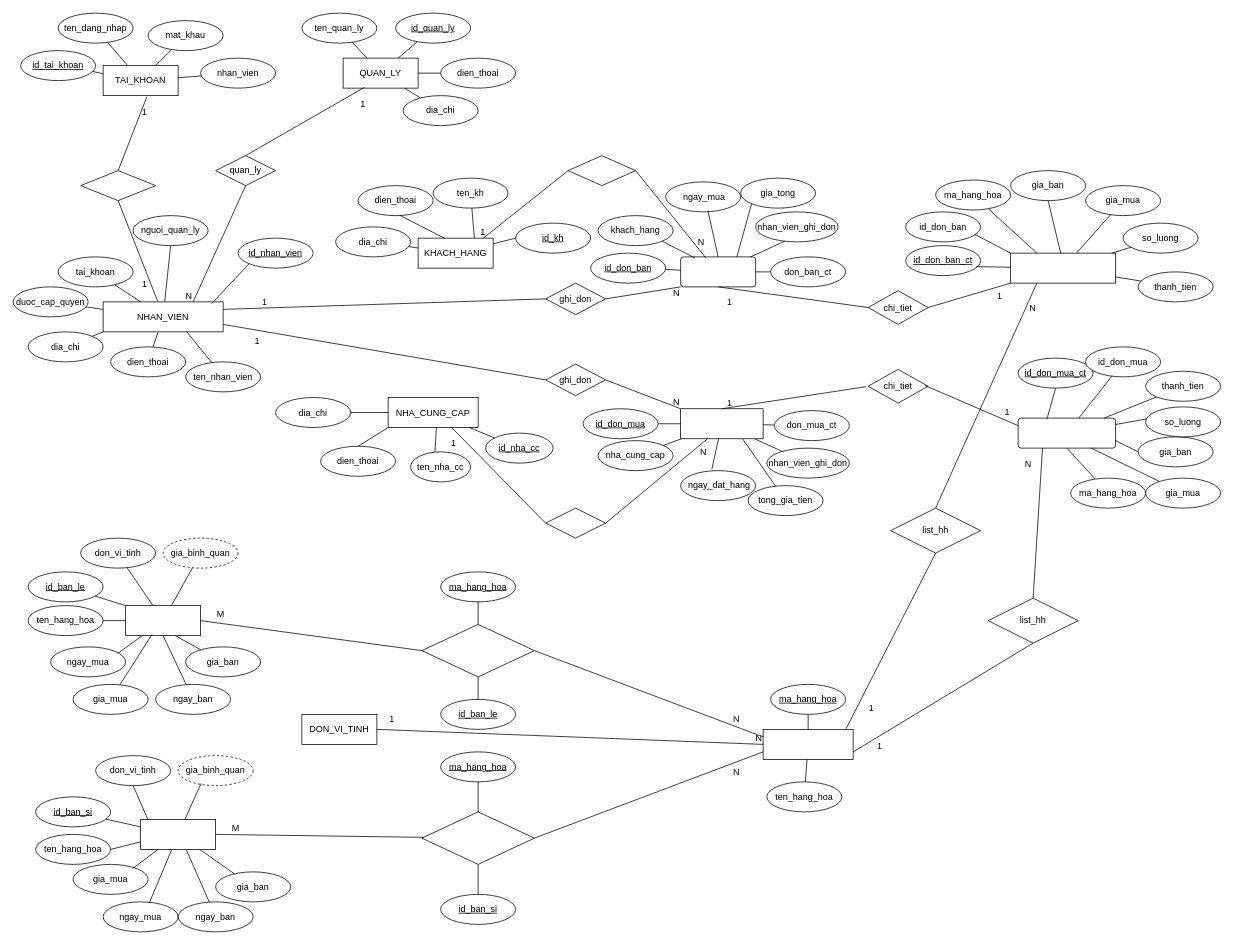
Some shapes in this 1234 by 945 pixel diagram are drawn without their labels. The centre of each missing label's shape, as x and y in pixels:
BAN_LE: the point at 163,620
BAN_SI: the point at 178,834
cung_cap: the point at 575,522
dat_don: the point at 601,170
DON_BAN: the point at 718,271
DON_BAN_CHI_TIET: the point at 1063,267
DON_MUA: the point at 721,423
DON_MUA_CHI_TIET: the point at 1066,432
HANG_HOA_BAN_LE: the point at 477,650
HANG_HOA_BAN_SI: the point at 477,837
LIST_HANG_HOA: the point at 807,744
su_dung_tk: the point at 118,185
